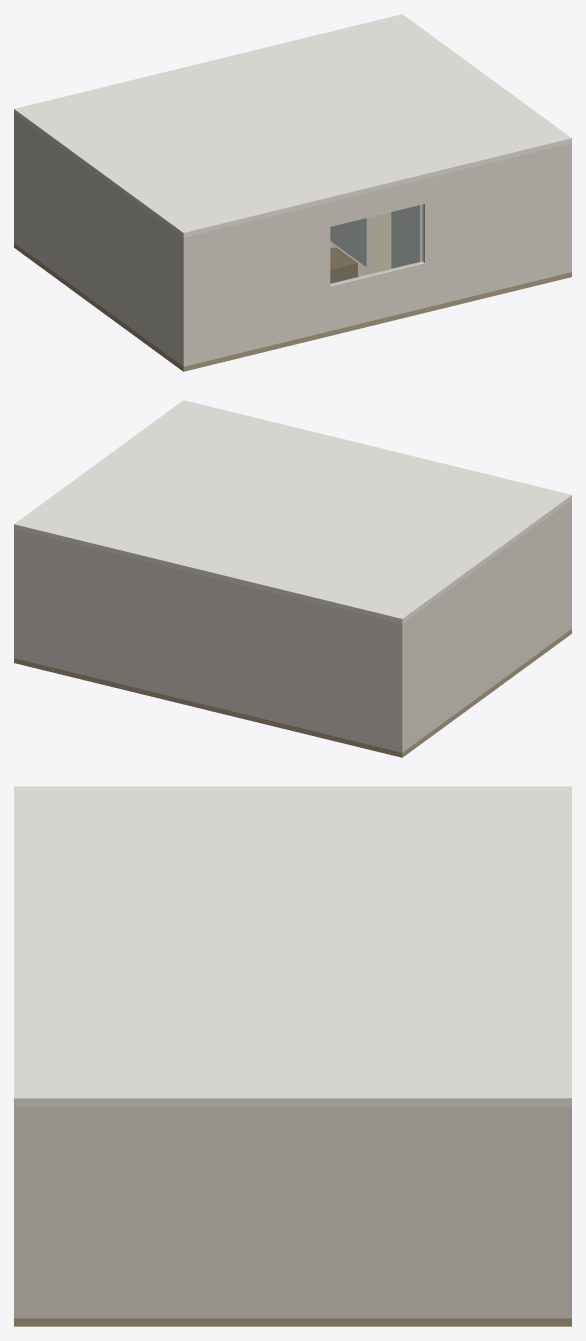
The model's file is ornek-daire.archvr.glb.
The picture shows the model from 3 angles, top to bottom: view 1: azimuth 30°, elevation 25°; view 2: azimuth 150°, elevation 25°; view 3: azimuth 270°, elevation 25°; orthographic projection. The views are drawn at different scales.
Parts seen in each view (by area): view 1: Tavan, BatiDuvar, GuneyDuvarSol, GuneyDuvarSag, PencereCami, Zemin, PencereAlti, PencereUstu, IcDuvarB, IcDuvarA, YemekMasasi; view 2: Tavan, KuzeyDuvar, BatiDuvar, Zemin; view 3: Tavan, DoguDuvar, Zemin, KuzeyDuvar, GuneyDuvarSag.
Part boxes in pixels (x1,y1,x2,y2): Tavan: [14, 14, 571, 237]; BatiDuvar: [16, 116, 180, 364]; GuneyDuvarSol: [180, 202, 330, 366]; GuneyDuvarSag: [422, 143, 571, 307]; PencereCami: [330, 204, 423, 284]; Zemin: [14, 212, 571, 371]; PencereAlti: [330, 261, 424, 330]; PencereUstu: [330, 179, 424, 226]; IcDuvarB: [391, 204, 422, 268]; IcDuvarA: [330, 217, 371, 267]; YemekMasasi: [330, 247, 357, 283]; Tavan: [14, 400, 571, 623]; KuzeyDuvar: [14, 529, 405, 752]; BatiDuvar: [405, 502, 569, 750]; Zemin: [14, 629, 571, 757]; Tavan: [14, 786, 571, 1106]; DoguDuvar: [23, 1106, 562, 1318]; Zemin: [14, 1318, 571, 1326]; KuzeyDuvar: [563, 1106, 571, 1318]; GuneyDuvarSag: [14, 1106, 22, 1318].
Size of the model in its own units: 8.2 by 2.8 by 6.2.
